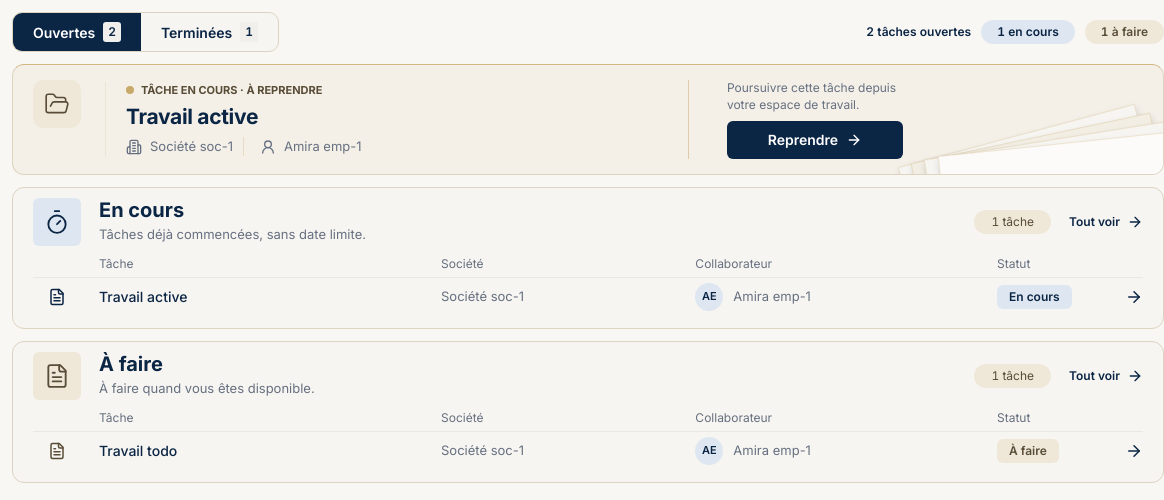
Dashboard Tâches workspace › switches full accessible task lists and preserves real summary counts
The width and height of the screenshot is (1164, 500).
Expected: the text "2 tâches ouvertes" is shown, [866,23,971,41]
Expected: the text "1 en cours" is shown, [981,20,1075,44]
What coordinates should you click on to do the following:
click the button "Terminées 1"
I would click on:
 (209, 32)
Its box is [141,13,278,51].
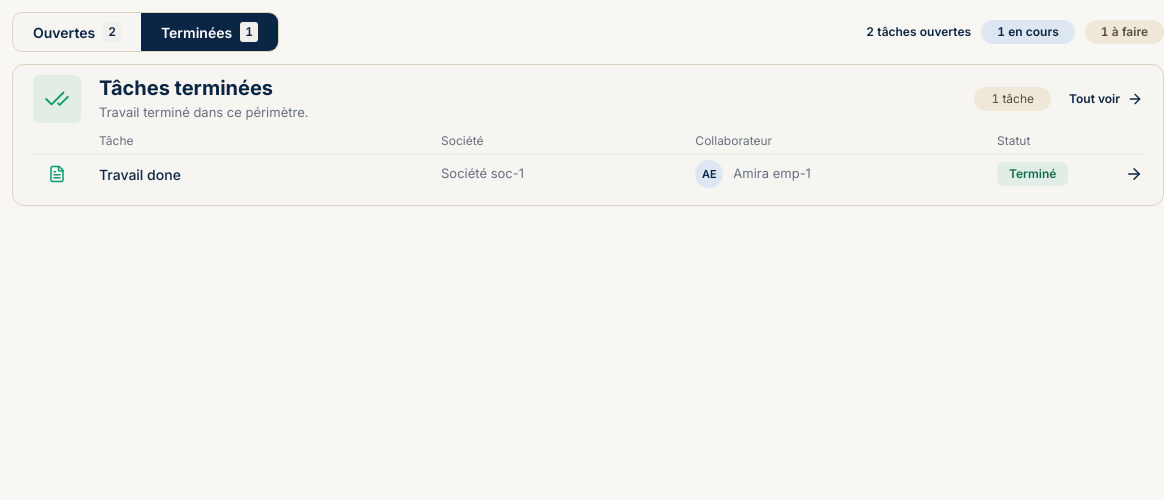
Expected: the link with class "tasks-register-row" shows "Travail done", [33,154,1143,193]
Expected: the number of links with class "tasks-register-row" is 1, [33,154,1143,193]
